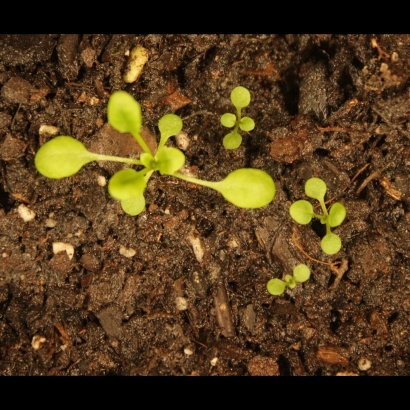leaf: (216, 159, 279, 219), (31, 131, 94, 184), (102, 86, 150, 139), (100, 166, 149, 200), (148, 143, 190, 175), (112, 193, 157, 220), (286, 195, 316, 231), (157, 106, 186, 143), (296, 173, 335, 200), (316, 227, 347, 256), (218, 129, 252, 153), (212, 103, 240, 130), (229, 84, 256, 111), (236, 112, 262, 140), (325, 199, 349, 229), (264, 275, 290, 300), (292, 260, 317, 285)
